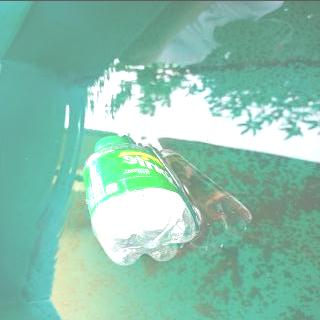bottle: (80, 134, 197, 266)
